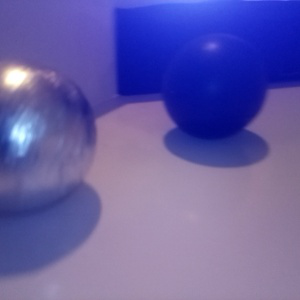alive_ball: (1, 62, 96, 214)
dead_ball: (161, 33, 265, 139)
